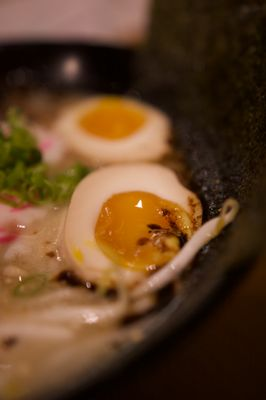taco: (60, 96, 172, 169)
